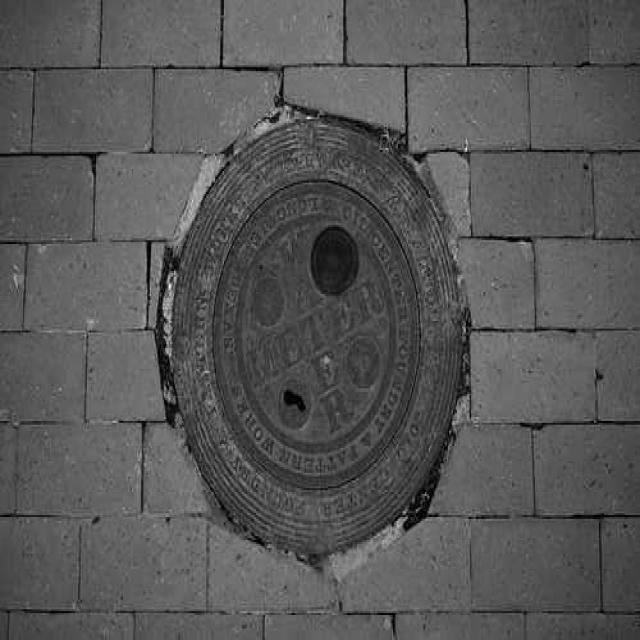manhole: (158, 105, 464, 556)
